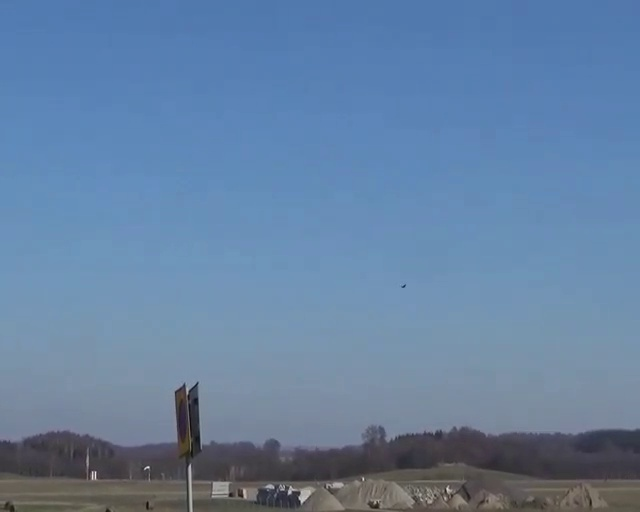BIRD: (400, 283, 407, 288)
